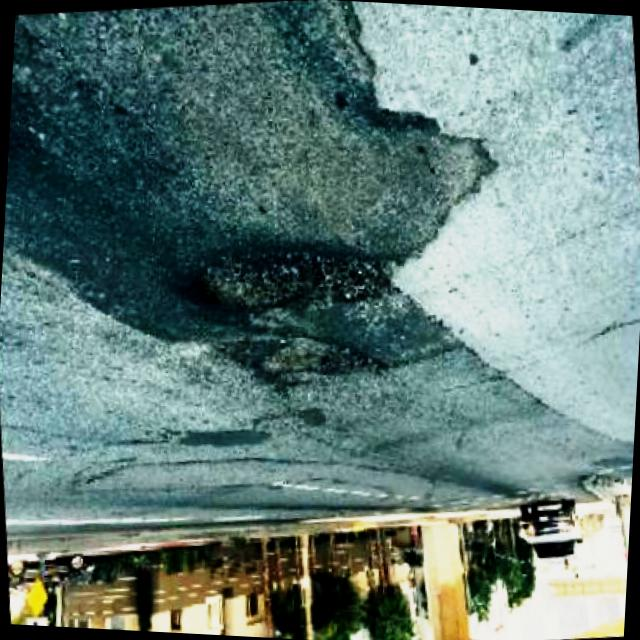pothole: (173, 234, 396, 327), (215, 327, 390, 380)
